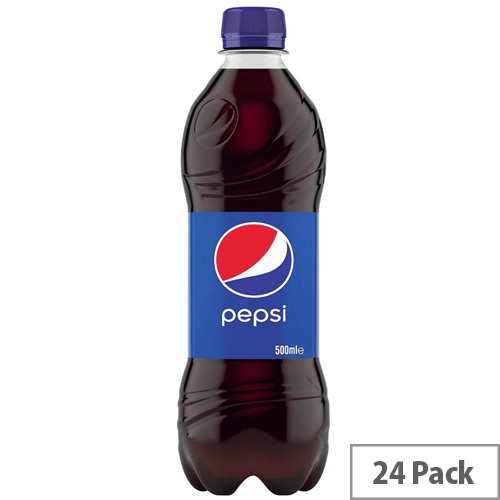pepsi: (211, 219, 293, 295), (213, 219, 293, 295)
